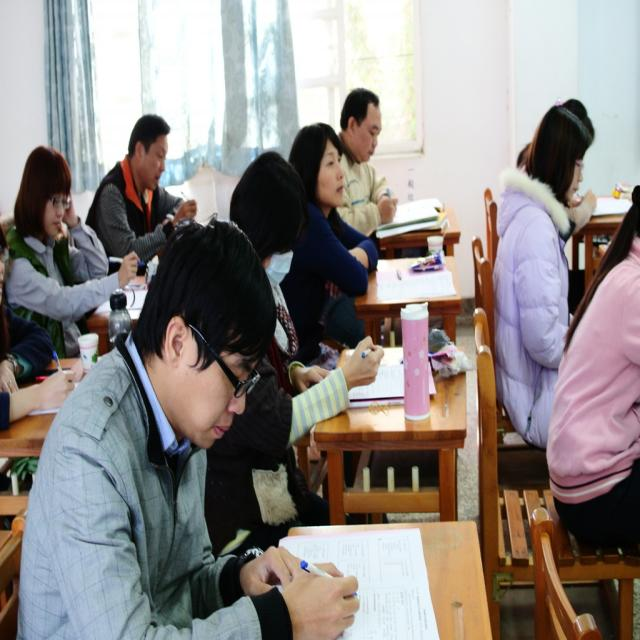chair: (474, 265, 638, 638), (530, 514, 637, 639), (484, 187, 498, 268)
desk: (306, 371, 480, 532)
person: (16, 217, 359, 637), (206, 151, 382, 553), (491, 102, 599, 455), (547, 185, 640, 558), (4, 145, 144, 359), (281, 124, 378, 359), (86, 113, 196, 271), (0, 221, 61, 395), (337, 88, 398, 235)
